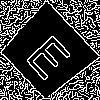E: (23, 27, 80, 82)
